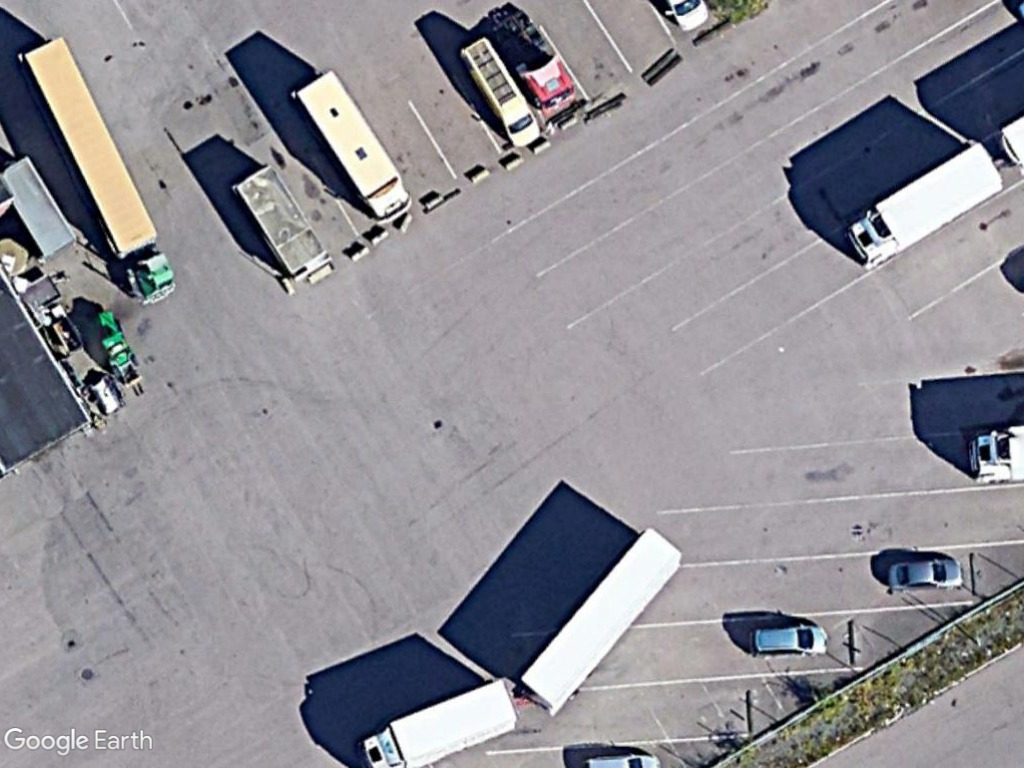car: (882, 554, 967, 599)
longvehicle: (18, 33, 190, 309)
truck: (834, 143, 1007, 277), (294, 66, 417, 229), (355, 680, 526, 768)
van: (459, 35, 546, 152), (745, 619, 833, 662)
